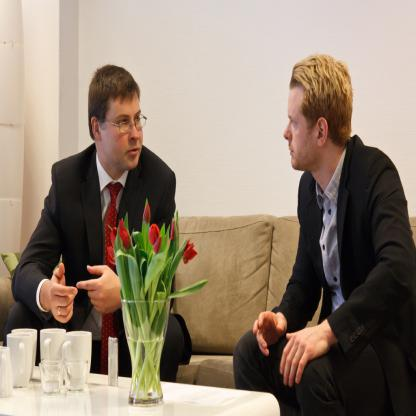vase: (121, 294, 170, 405)
